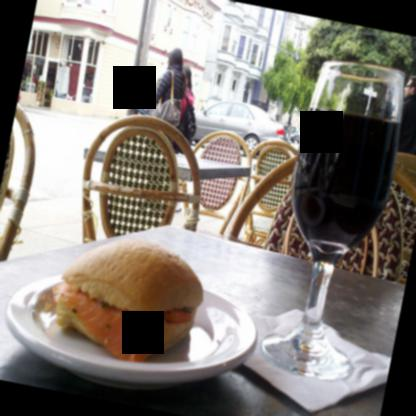backpack: (179, 95, 197, 145)
handbag: (148, 68, 180, 127)
